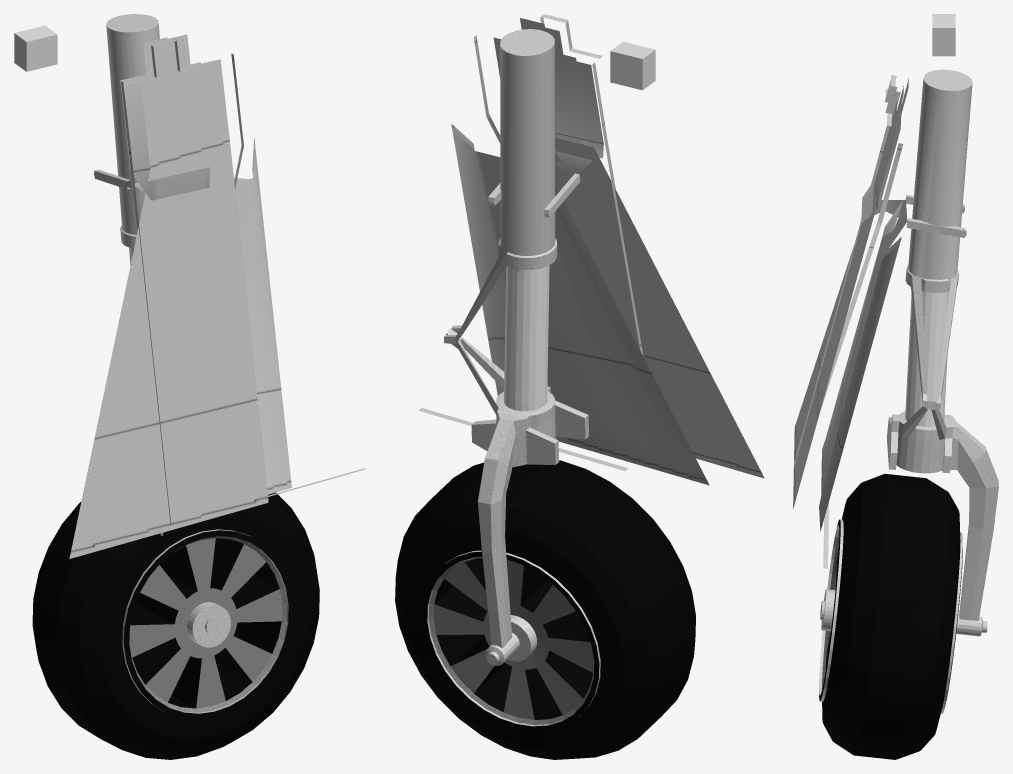
File: p51d_Rgear.FBX
3 renders of one model, left to right at view 1: azimuth 30°, elevation 25°; view 2: azimuth 150°, elevation 25°; view 3: azimuth 270°, elevation 25°, orthographic. The views are drawn at different scales.
Visible parts, largest first — view 1: Null.001, Rwheel, RsuspAncor, RsuspArm; view 2: Rwheel, Null.001, RsuspArm, RsuspAncor; view 3: Rwheel, Null.001, RsuspArm, RsuspAncor.
Part boxes in pixels (x1,y1,x2,y2): Null.001: (69, 14, 365, 558); Rwheel: (32, 492, 319, 759); RsuspAncor: (14, 25, 57, 71); RsuspArm: (129, 247, 230, 647); Rwheel: (395, 460, 695, 759); Null.001: (419, 14, 764, 485); RsuspArm: (423, 249, 599, 678); RsuspAncor: (610, 41, 655, 90); Rwheel: (819, 473, 962, 759); Null.001: (793, 69, 972, 568); RsuspArm: (820, 275, 998, 675); RsuspAncor: (932, 14, 955, 56).
Size of the model in its own units: 38.56 by 84.73 by 23.45.
